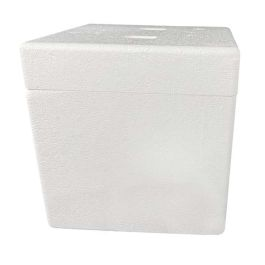Boxes: (21, 24, 239, 235)
